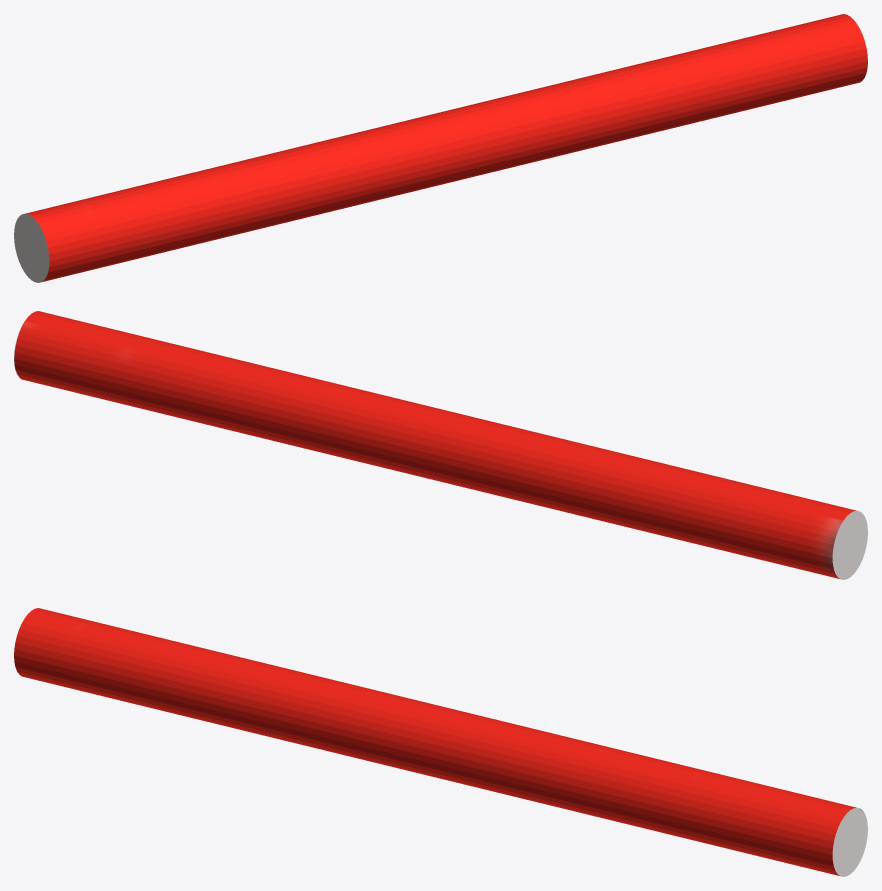
File: Lamp.obj
The picture shows the model from 3 angles, top to bottom: view 1: azimuth 30°, elevation 25°; view 2: azimuth 150°, elevation 25°; view 3: azimuth 330°, elevation 25°; orthographic projection.
Parts seen in each view (by area): view 1: 円柱; view 2: 円柱; view 3: 円柱.
Boxes of the visible parts, <box> form: 円柱: <box>14,14,867,282</box>; 円柱: <box>14,311,867,579</box>; 円柱: <box>14,608,867,876</box>.
Bounding box in the file's own units: 8.47 × 0.6354 × 0.6354.
Materials: 1 (1 with a texture image).
